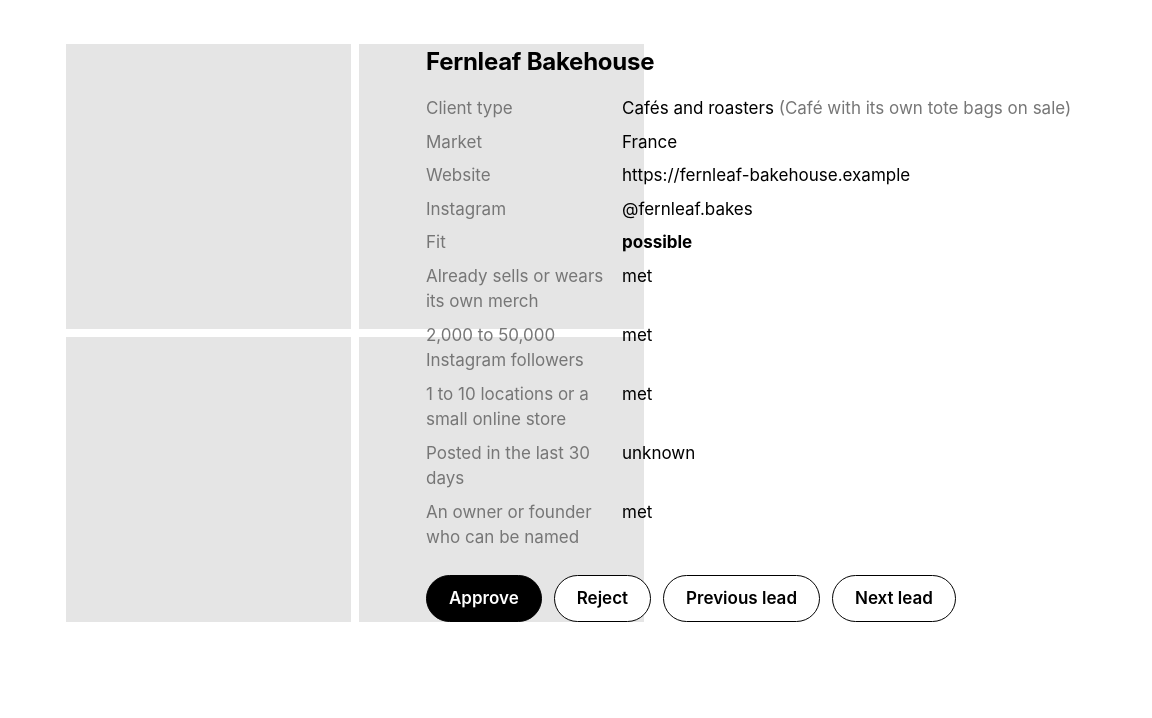
Test case: pages › Review moves through the waiting leads locally
(page scrolled)
Expected: the heading "Fernleaf Bakehouse" is shown, [426,47,654,76]
Click the button "Next lead" at (894, 599), box [832,575,956,622]
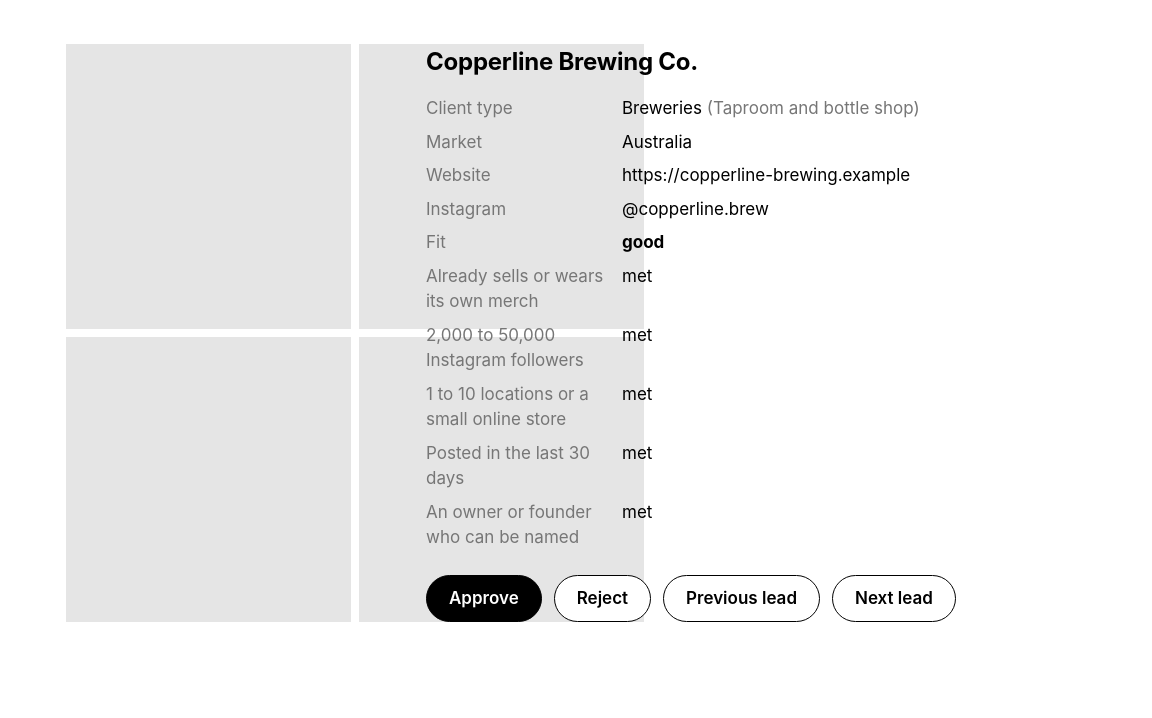
Expected: the heading "Copperline Brewing Co." is shown, [426,47,698,76]
Click the button "Previous lead" at (742, 599), box [663,575,820,622]
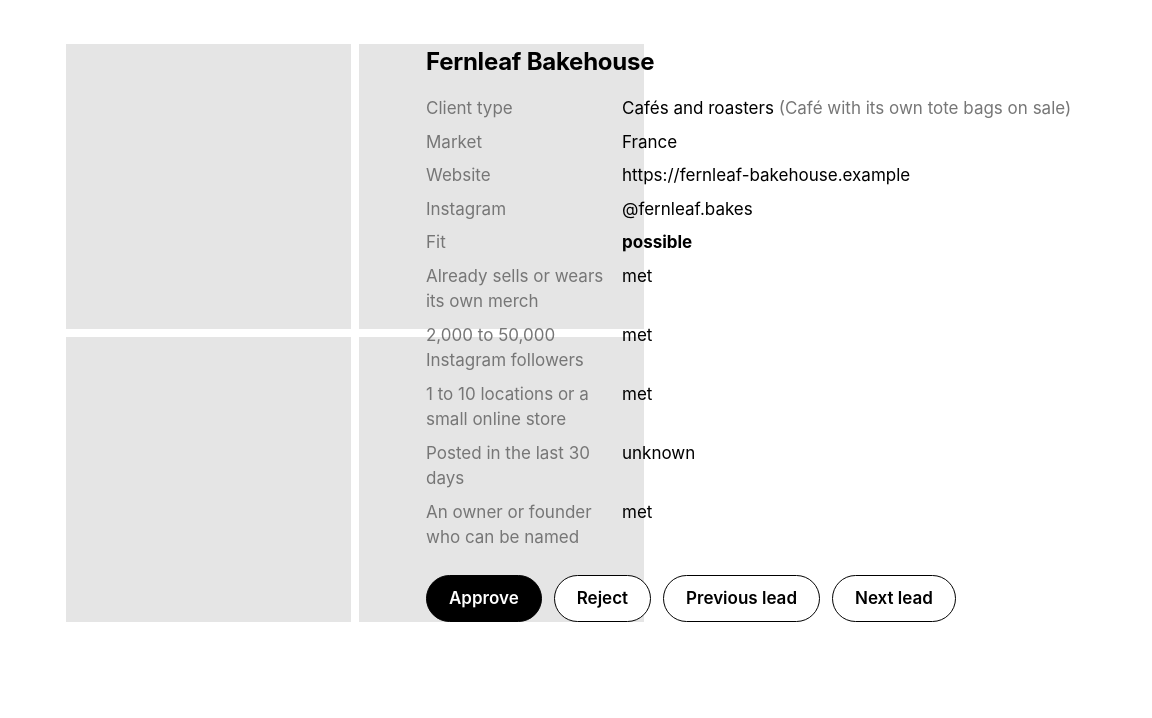
Expected: the heading "Fernleaf Bakehouse" is shown, [426,47,654,76]
